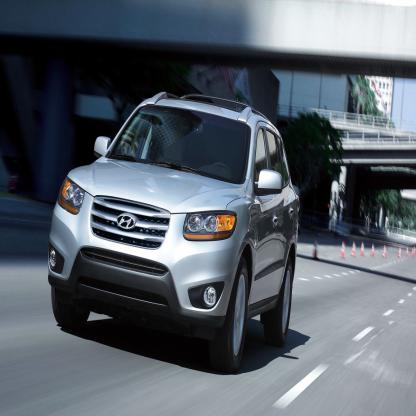Vehicle: (47, 88, 301, 374)
